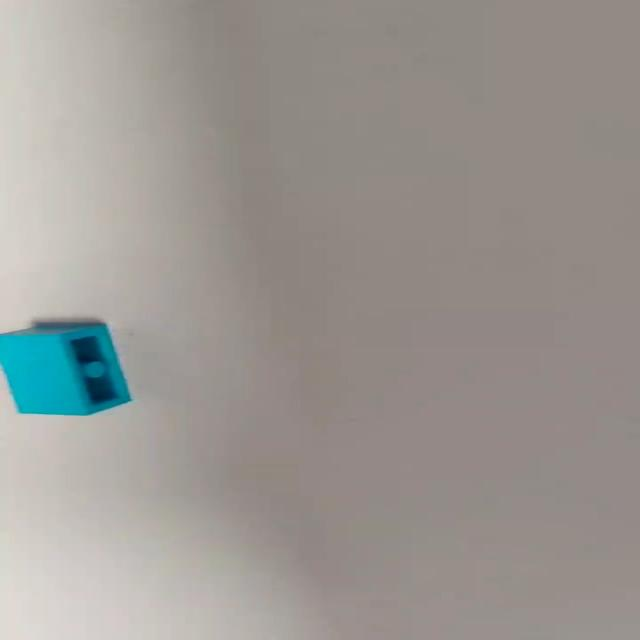C2x1x1: (0, 320, 133, 416)
